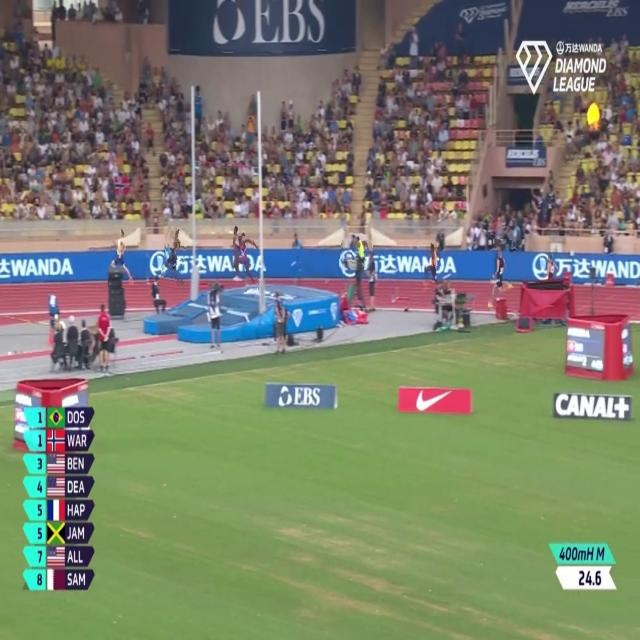athlete: (161, 227, 186, 292), (109, 226, 135, 288), (489, 239, 512, 306), (234, 236, 258, 292), (340, 231, 374, 270), (422, 239, 442, 292)
